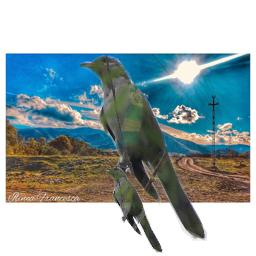Cuckoo: (80, 55, 212, 242), (104, 167, 165, 253)
